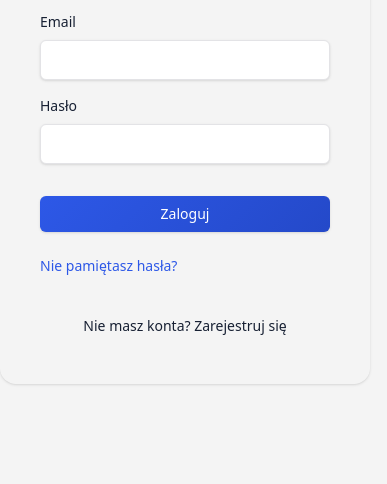
shows an API error when logging in fails
Type "test@example.com" into the field labelled "Email". click: (185, 60)
box: [40,40,330,80]
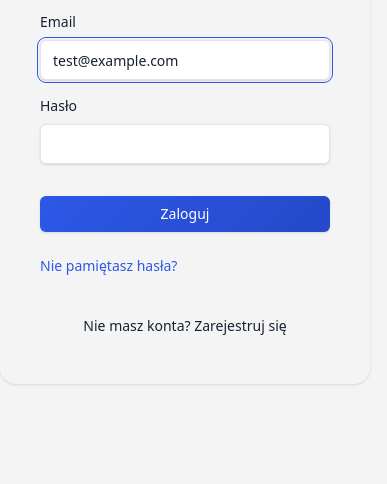
Type "hasło-testowe" into the password field labelled "Hasło". click: (185, 144)
box: [40,124,330,164]
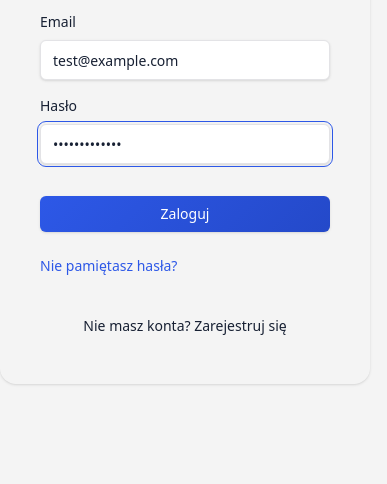
Click the button "Zaloguj". click: (185, 214)
box: [40,196,330,232]
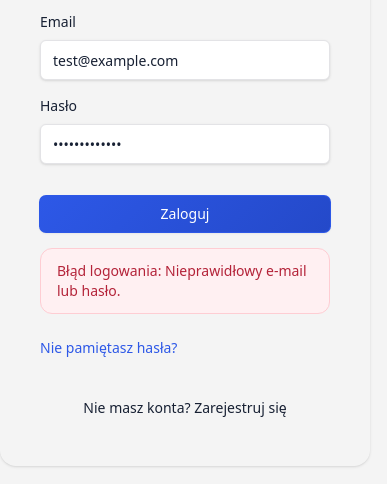
Expected: the text "Błąd logowania: Nieprawidłowy e-mail lub hasło." is shown, [40,248,330,314]
